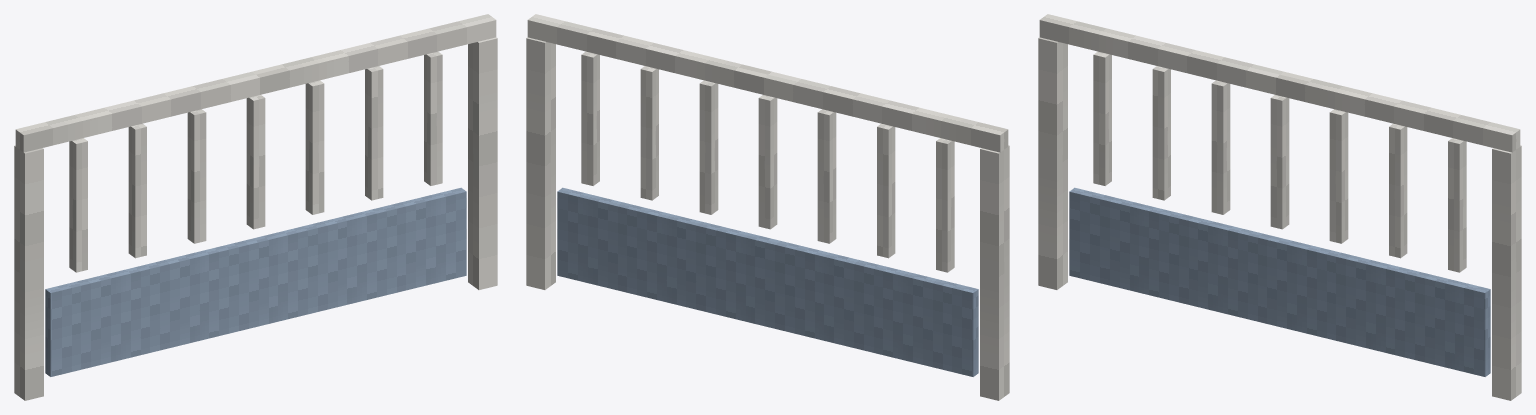
The model's file is pixel-modern-apartments-balcony-corner-rail-3733b9b7__29802.glb.
The picture shows the model from 3 angles, left to right: view 1: azimuth 30°, elevation 25°; view 2: azimuth 150°, elevation 25°; view 3: azimuth 330°, elevation 25°; orthographic projection.
Visible parts, largest first — view 1: balcony-corner-rail; view 2: balcony-corner-rail; view 3: balcony-corner-rail.
Part boxes in pixels (x1,y1,x2,y2): balcony-corner-rail: (14,14,497,400); balcony-corner-rail: (526,14,1009,400); balcony-corner-rail: (1038,14,1521,400).
Size of the model in its own units: 2 by 1.07 by 0.0801.
Materials: 2 (2 with a texture image).
